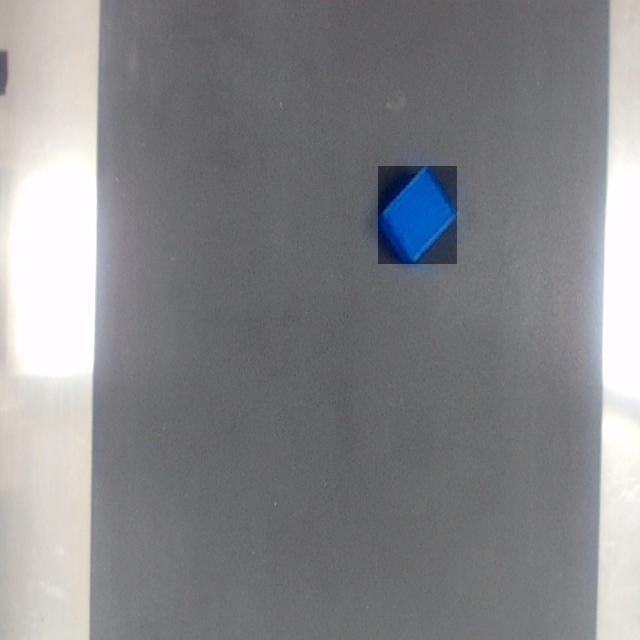Azul: (378, 166, 457, 264)
